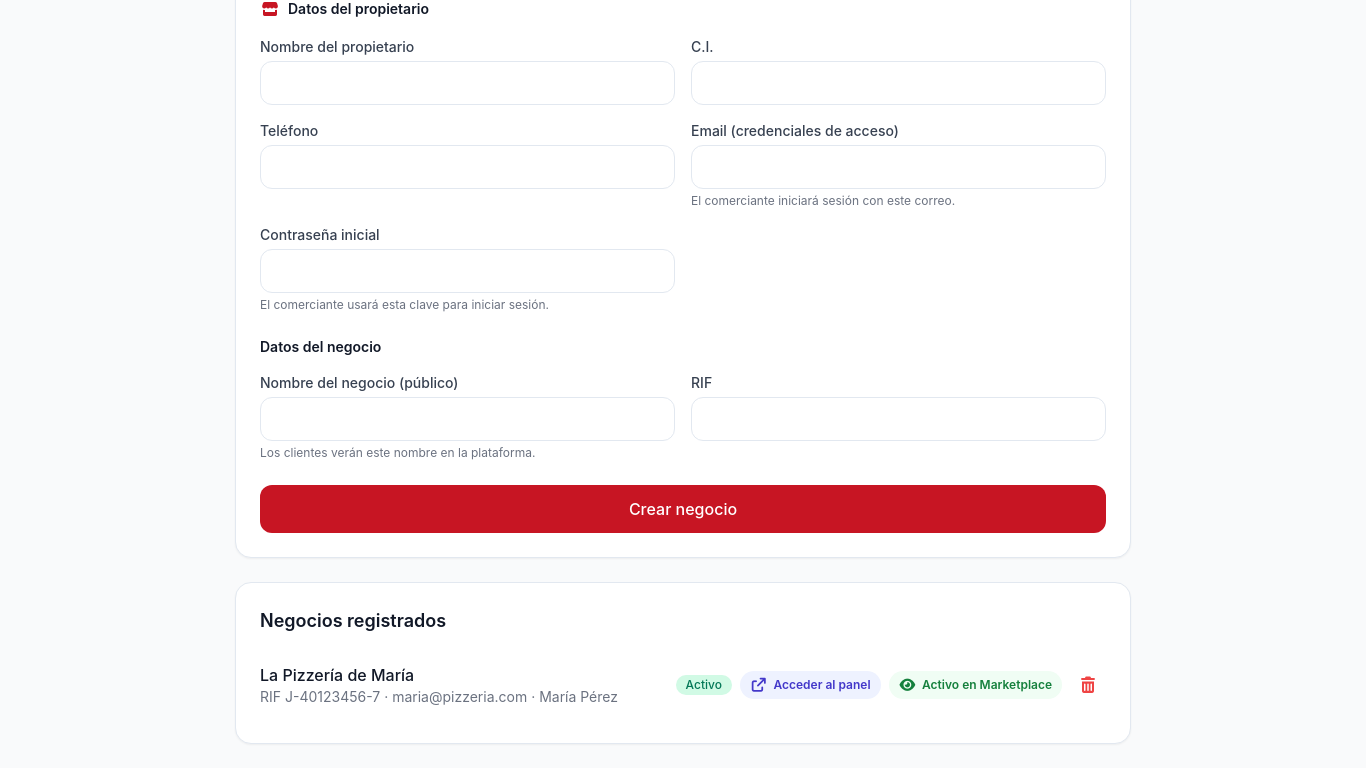
Scenario: SuperAdminMerchantsPage › eliminación de comercios › elimina el comercio, cierra el modal y refresca el listado al confirmar
(page scrolled)
Expected: the button with test id "merchant-row" is shown, x1=260 y1=665 x2=1106 y2=705
Click the button with test id "delete-merchant" at (1088, 685), box x1=1070 y1=665 x2=1106 y2=705
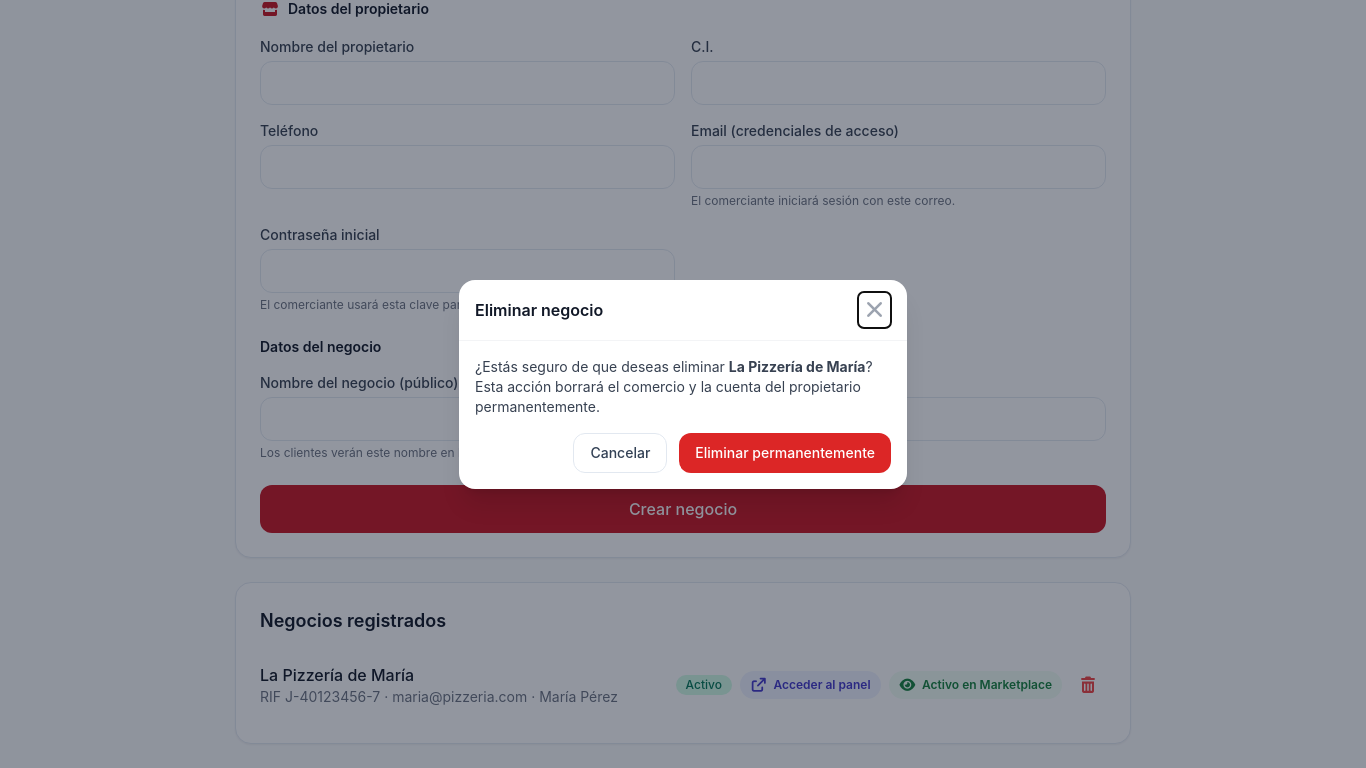
Click the button with test id "confirm-delete" at (785, 452), box x1=679 y1=432 x2=891 y2=472
(page scrolled)
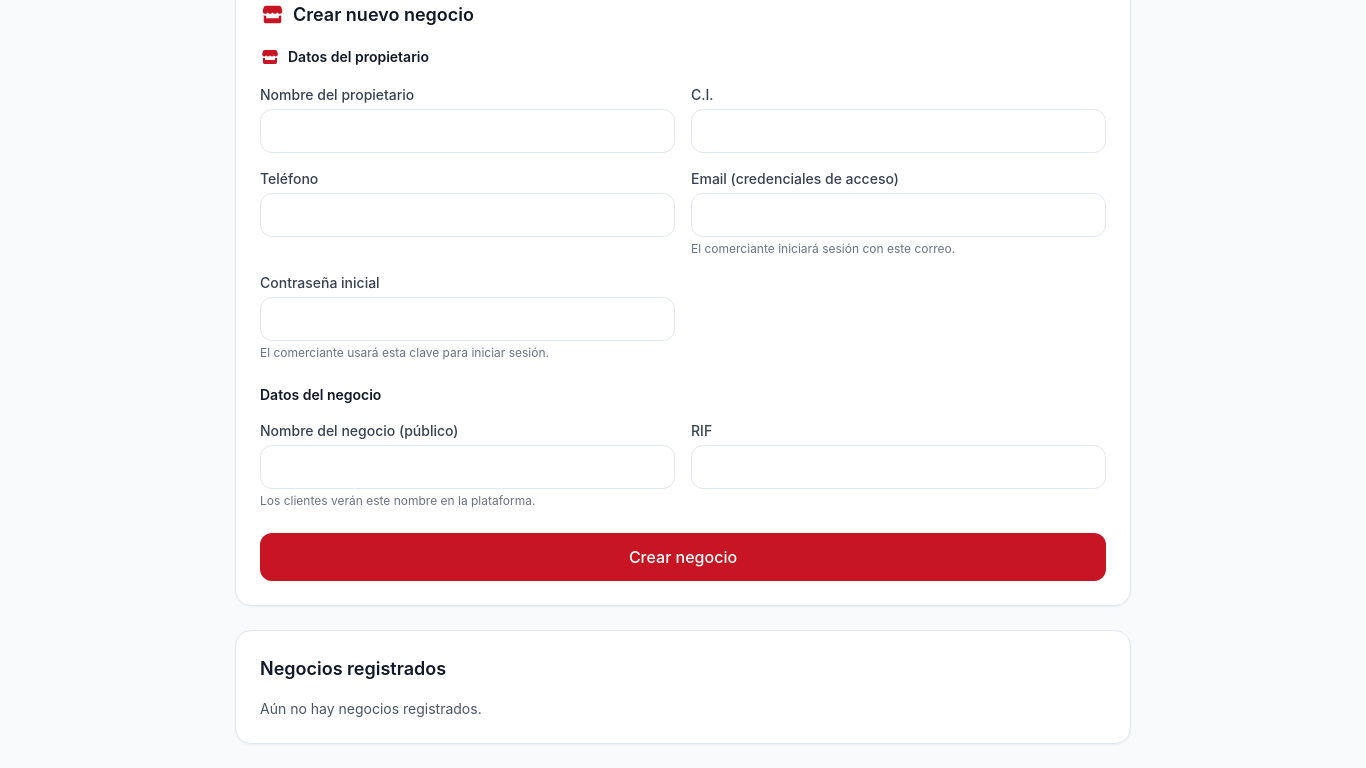
Now the text "Aún no hay negocios registrados." is shown, box x1=260 y1=700 x2=482 y2=717
Now the element with test id "delete-confirmation-message" is gone
